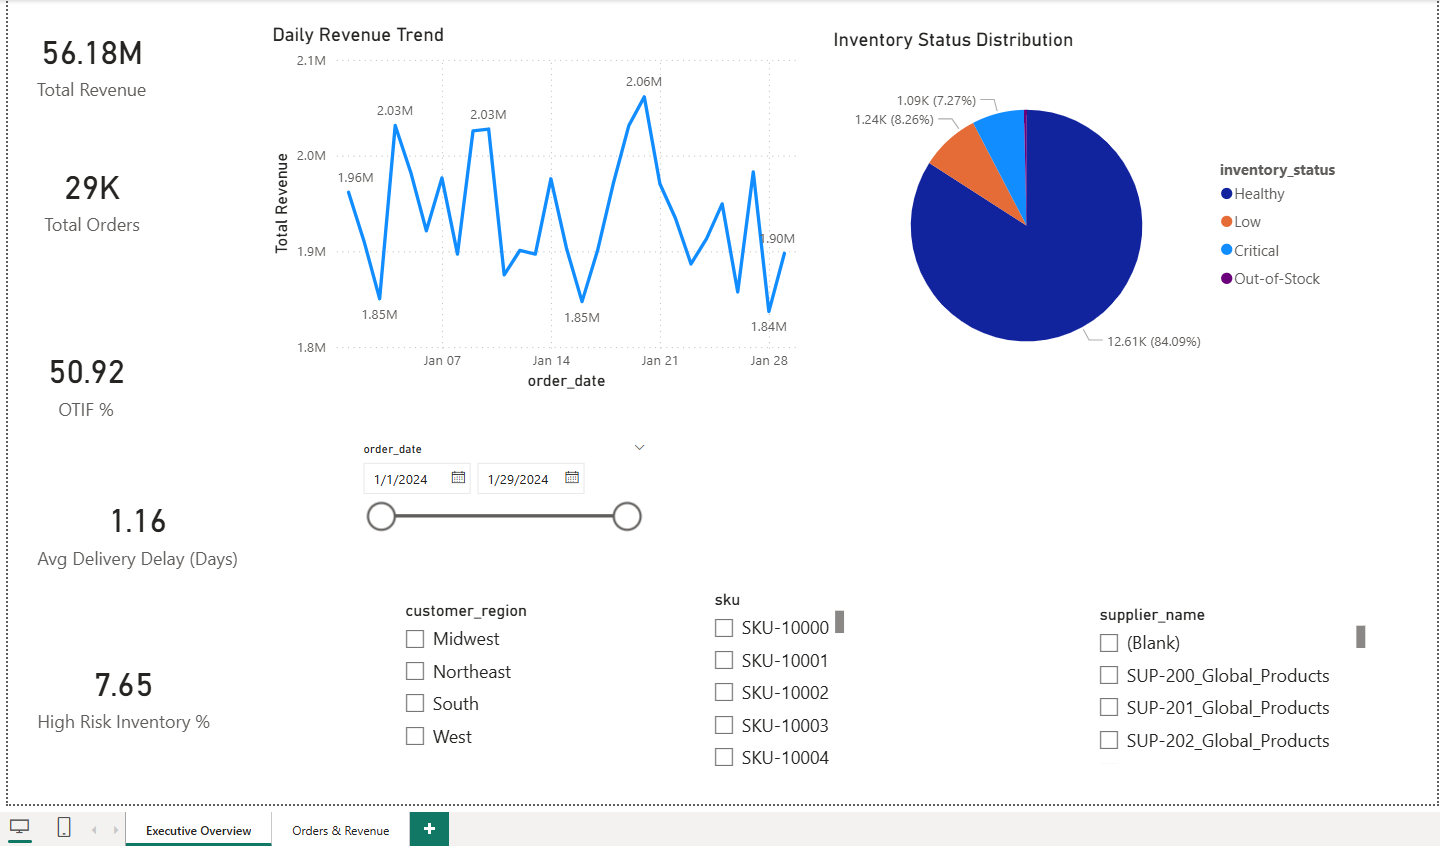

The dashboard page shown, as its layout file describes it:
{"tool":"powerbi","page":{"name":"Executive Overview","canvas":[1280,720],"ordinal":0},"visuals":[{"type":"card","fields":{"Values":["inventory_clean.Total Revenue"]},"box":[9.9,0,129.9,111],"z":0},{"type":"card","fields":{"Values":["inventory_clean.Total Orders"]},"box":[5.4,117.3,139.7,118.2],"z":1000},{"type":"card","fields":{"Values":["inventory_clean.OTIF %"]},"box":[0,266.9,139.7,149.6],"z":2000},{"type":"card","fields":{"Values":["inventory_clean.Avg Delivery Delay (Days)"]},"box":[0,416.4,231.9,117.3],"z":3000},{"type":"card","fields":{"Values":["inventory_clean.High Risk Inventory %"]},"box":[9.9,563.3,187.2,116.4],"z":4000},{"type":"lineChart","title":"Daily Revenue Trend","fields":{"Y":["inventory_clean.Total Revenue"],"Category":["orders_clean.order_date"]},"box":[231.9,20.6,485.4,333.1],"z":5000},{"type":"pieChart","title":"Inventory Status Distribution","fields":{"Category":["inventory_clean.inventory_status"],"Y":["CountNonNull(inventory_clean.sku)"]},"box":[734.3,25.1,473.7,334.9],"z":5001},{"type":"slicer","title":"Order Date","fields":{"Values":["orders_clean.order_date"]},"box":[305.4,390.4,277.6,98.5],"z":5002},{"type":"slicer","fields":{"Values":["orders_clean.customer_region"]},"box":[343,533.7,177.3,143.3],"z":5003},{"type":"slicer","fields":{"Values":["orders_clean.sku"]},"box":[619.7,523.9,134.3,178.2],"z":5004},{"type":"slicer","fields":{"Values":["suppliers_clean.supplier_name"]},"box":[964.5,537.3,256.1,151.3],"z":5005}]}

Visuals, with their boxes on the page's 1280x720 design canvas (x1, y1, x2, y2). These are canvas units, not pixel positions in the 1440x846 screenshot, which may show the page scaled, cropped or inside an application window:
card - inventory_clean.Total Revenue: (left=10, top=0, right=140, bottom=111)
card - inventory_clean.Total Orders: (left=5, top=117, right=145, bottom=236)
card - inventory_clean.OTIF %: (left=0, top=267, right=140, bottom=416)
card - inventory_clean.Avg Delivery Delay (Days): (left=0, top=416, right=232, bottom=534)
card - inventory_clean.High Risk Inventory %: (left=10, top=563, right=197, bottom=680)
"Daily Revenue Trend" lineChart: (left=232, top=21, right=717, bottom=354)
"Inventory Status Distribution" pieChart: (left=734, top=25, right=1208, bottom=360)
"Order Date" slicer: (left=305, top=390, right=583, bottom=489)
slicer - orders_clean.customer_region: (left=343, top=534, right=520, bottom=677)
slicer - orders_clean.sku: (left=620, top=524, right=754, bottom=702)
slicer - suppliers_clean.supplier_name: (left=964, top=537, right=1221, bottom=689)
